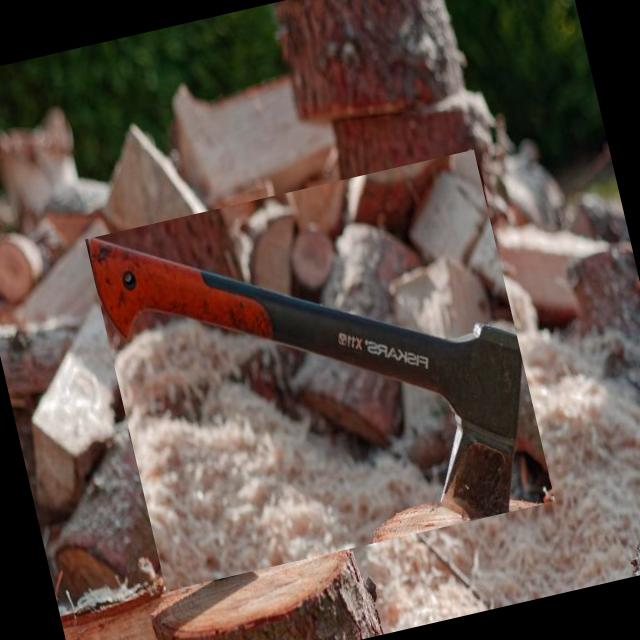Axe: (90, 238, 523, 518)
